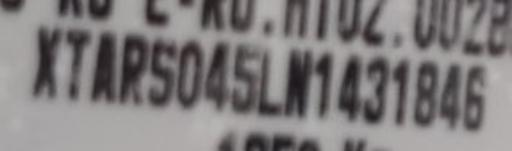letter: (28, 23, 66, 100), (278, 43, 316, 120), (172, 36, 210, 109), (228, 42, 262, 121), (146, 34, 180, 111), (119, 32, 151, 111), (60, 25, 94, 98), (412, 58, 446, 131), (90, 25, 122, 102), (360, 57, 396, 122), (203, 40, 233, 111), (337, 53, 367, 124), (440, 59, 468, 132), (259, 47, 283, 120), (389, 53, 413, 126), (310, 49, 336, 116), (464, 63, 486, 134)
